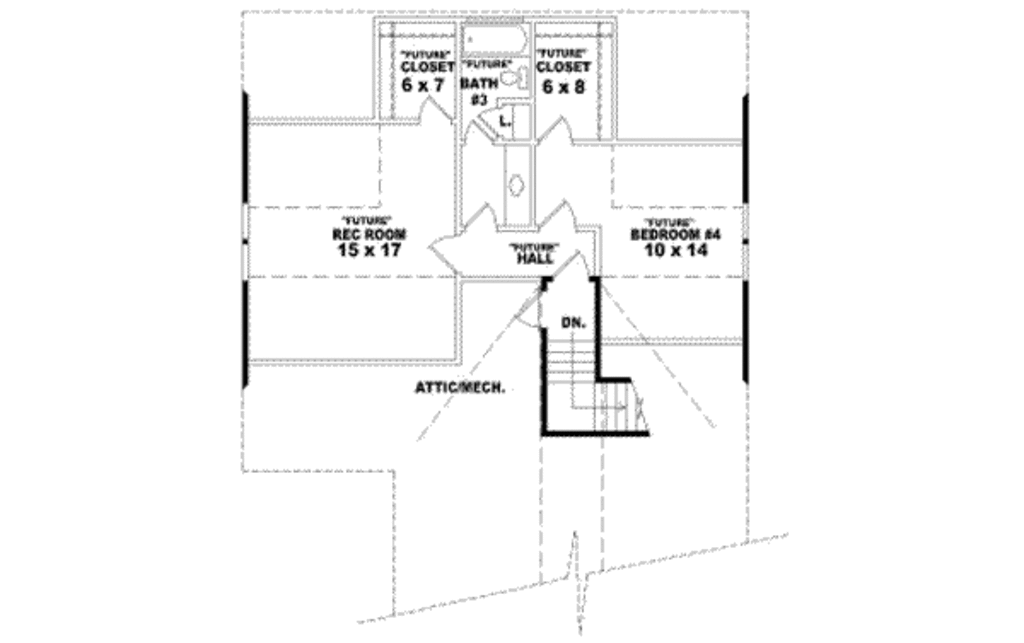door: (535, 188, 581, 232), (552, 248, 593, 285), (410, 91, 450, 125), (464, 200, 502, 234), (536, 109, 573, 142), (464, 116, 495, 154), (427, 235, 456, 274)
large_sink: (491, 66, 528, 95)
small_sink: (506, 156, 529, 223)
stairs: (547, 323, 652, 447)
tub: (461, 23, 535, 59)
window: (241, 205, 249, 275)
